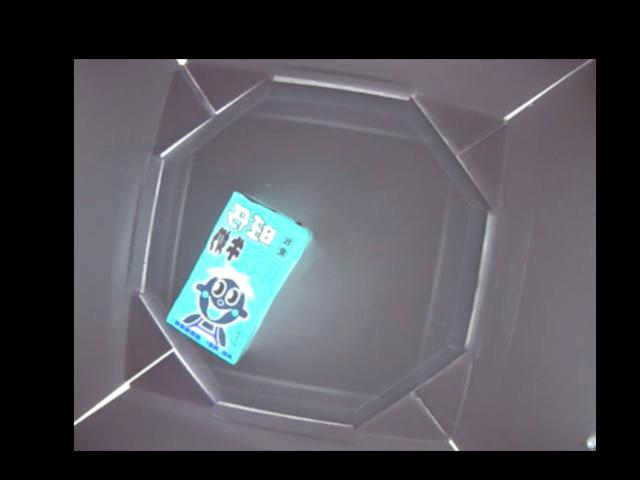Bottle: (163, 191, 310, 365)
